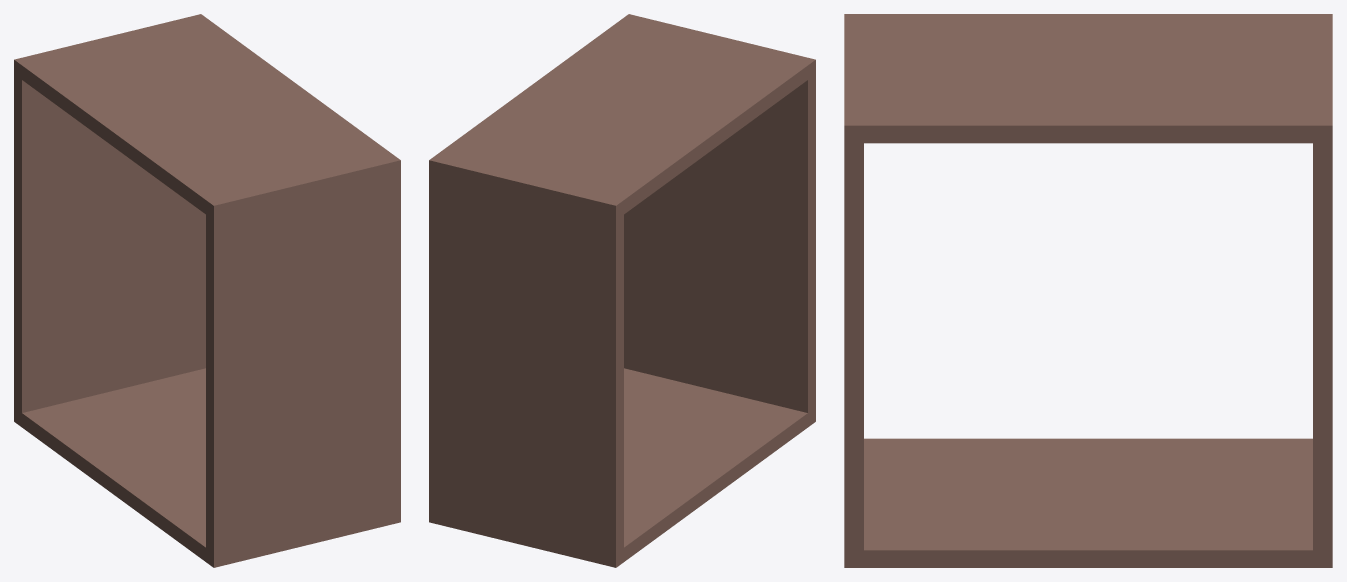
File: SimpleBox01.fbx
The picture shows the model from 3 angles, left to right: view 1: azimuth 30°, elevation 25°; view 2: azimuth 150°, elevation 25°; view 3: azimuth 270°, elevation 25°; orthographic projection. The views are drawn at different scales.
Parts seen in each view (by area): view 1: SimpleBox01; view 2: SimpleBox01; view 3: SimpleBox01.
Part boxes in pixels (box(x1,y1,x2,y2)): SimpleBox01: box(14, 14, 400, 567); SimpleBox01: box(429, 14, 815, 567); SimpleBox01: box(844, 14, 1332, 567).
Bounding box in the file's own units: 0.2703 × 0.5 × 0.5.
